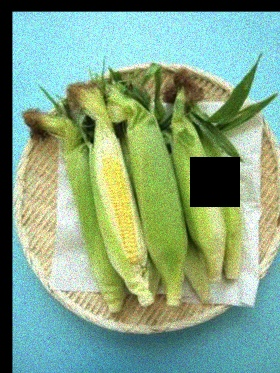corn: (96, 139, 140, 270)
corn_plant: (43, 115, 124, 306), (115, 86, 182, 285), (168, 100, 224, 273)
